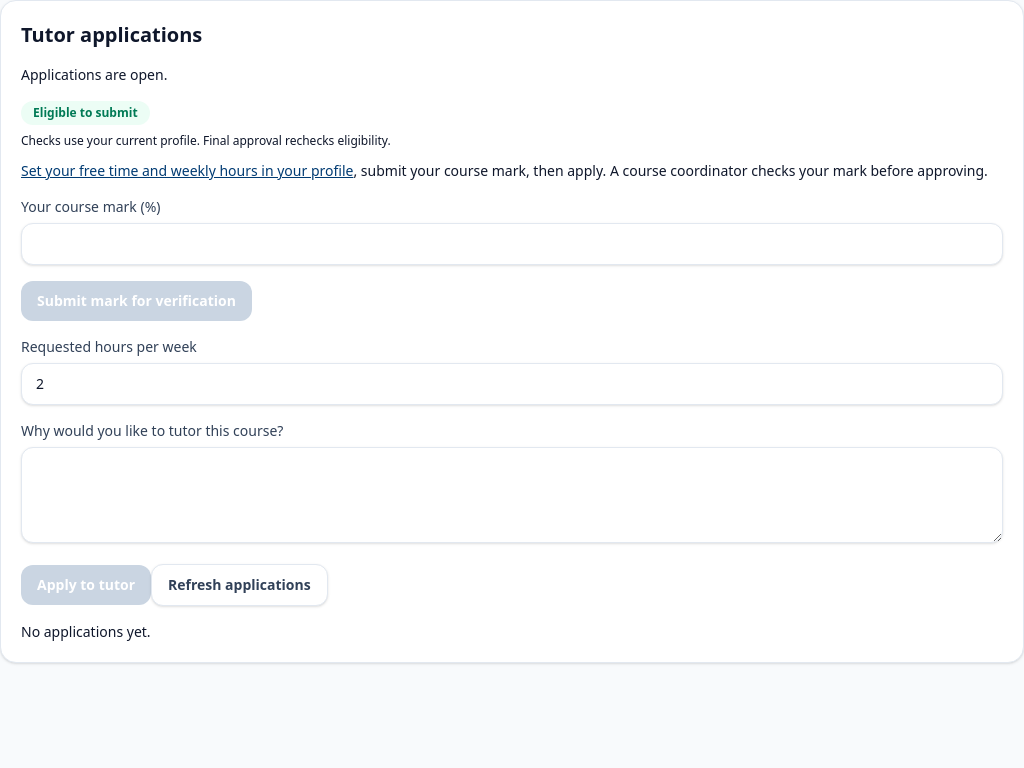
B05 application next actions › shows a stale-state rejection truthfully and refreshes eligibility
Step 1. Type "I enjoy teaching" into the text box labelled "Why would you like to tutor this course?" → (512, 495), box [21,447,1003,543]
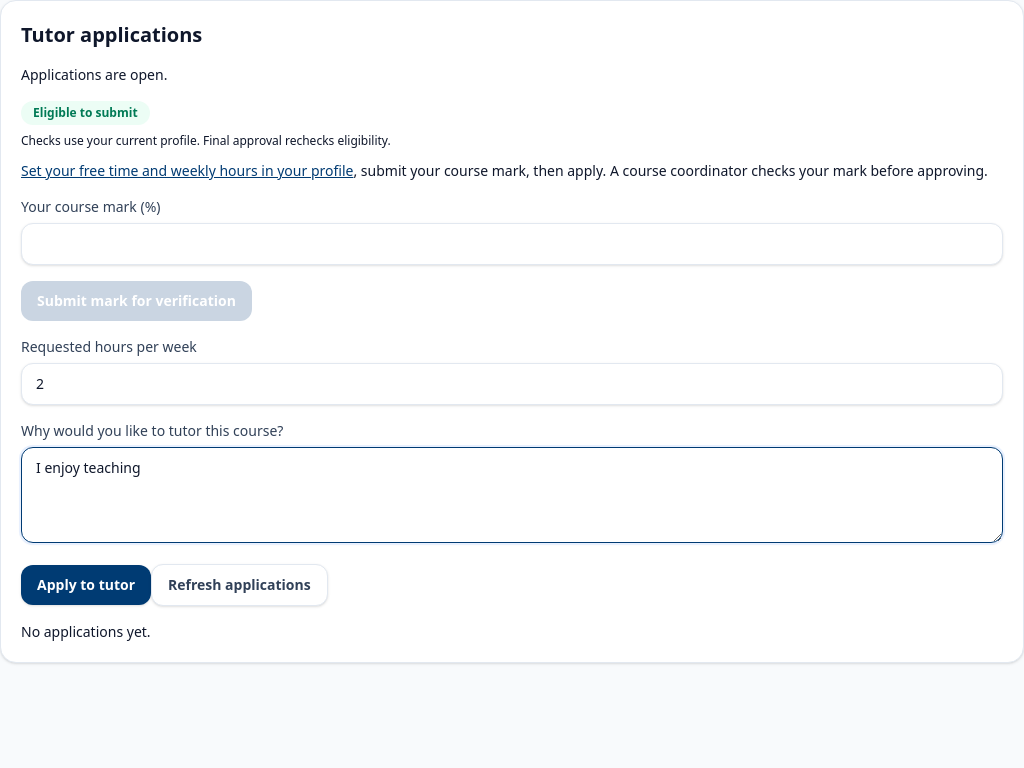
Step 2. Click the button "Apply to tutor" → (86, 585), box [21,565,151,605]
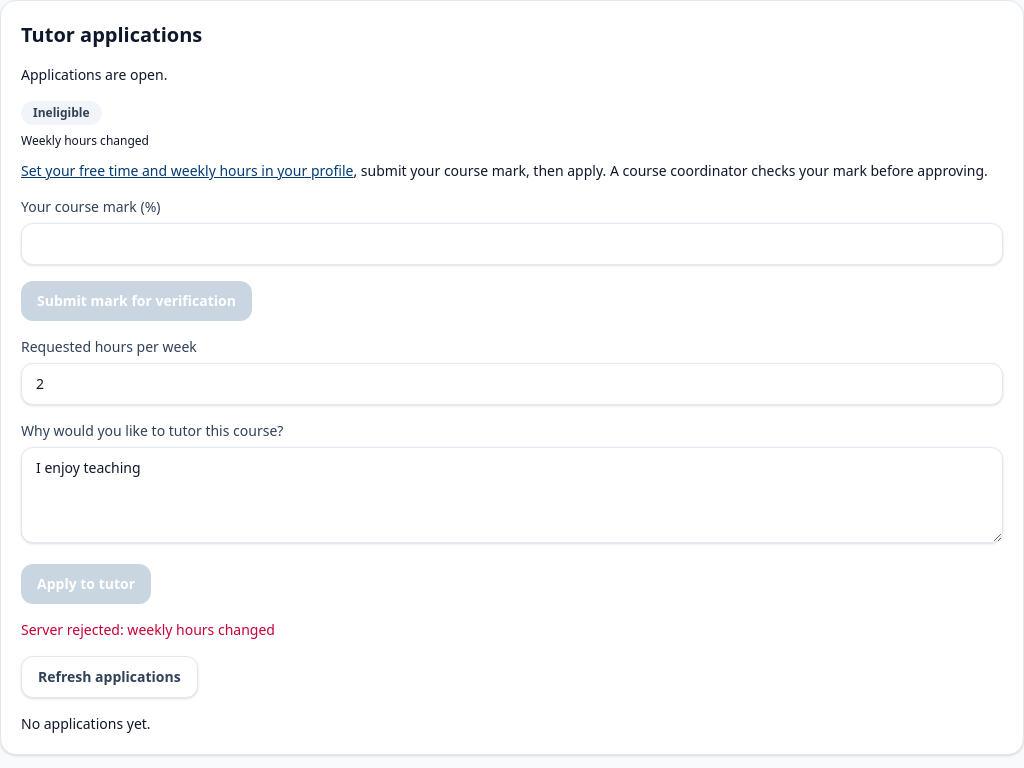
Expected: the message reads "Server rejected: weekly hours changed", [21,620,275,639]
Expected: the text "Weekly hours changed" is shown, [21,132,149,149]
Expected: the button "Apply to tutor" is disabled, [21,564,151,604]
